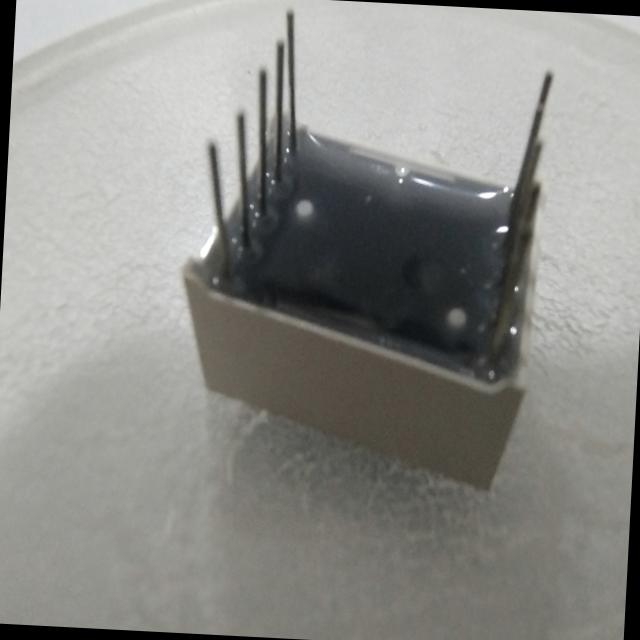7_segments: (159, 0, 572, 517)
